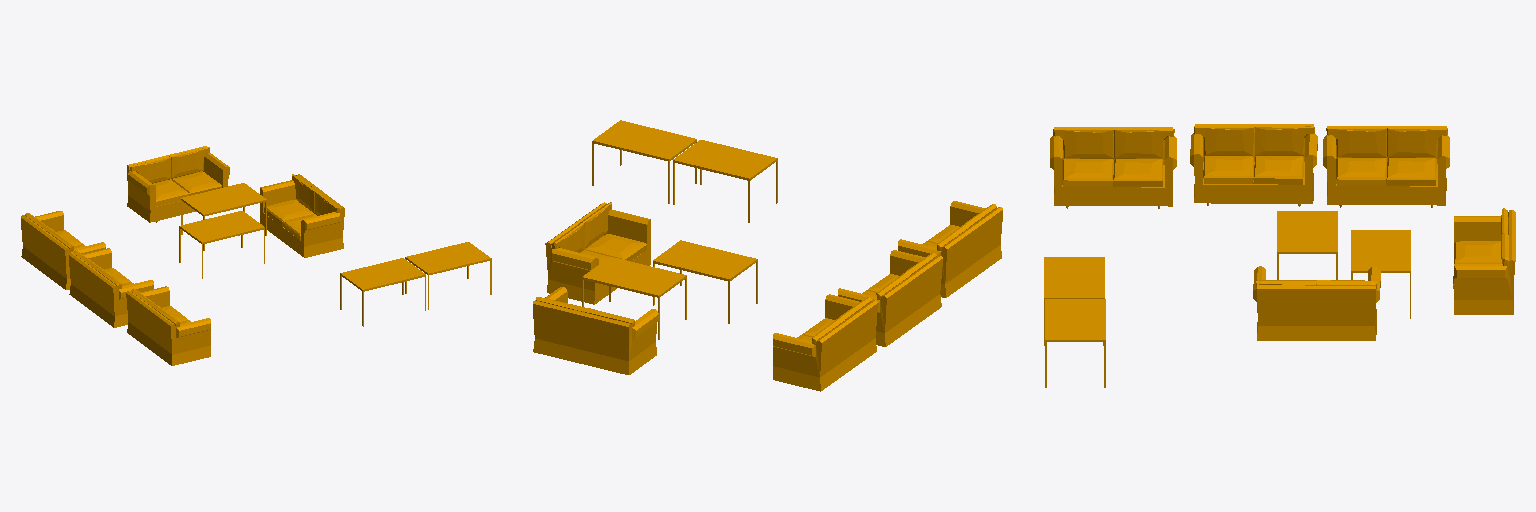
The robot description file, URDF, robot "cs_common_room":
<?xml version="1.0"?>
<robot name="cs_common_room">
  <link name="base_link">
    <visual>
      <origin rpy="0 0 0" xyz="0 0 0"/>
      <geometry>
        <mesh filename="package://strands_morse/bham/meshes/cs_common_room.dae"/>
      </geometry>
    </visual>
  </link>
  <link name="base_footprint"/>
  <joint name="base_footprint_joint" type="fixed">
    <origin rpy="0 0 0" xyz="0 0 0.0"/>
    <child link="base_link"/>
    <parent link="base_footprint"/>
  </joint>
</robot>

--- Facts derived from the render (not from the file) ---
3 views of the same robot in one strip: view 1: azimuth 30°, elevation 25°; view 2: azimuth 150°, elevation 25°; view 3: azimuth 270°, elevation 25° (orthographic).
Model cs_common_room with 2 links and 1 joints (1 fixed), rooted at base_footprint, posed all joints at 0.
Visible links, largest first — view 1: base_link; view 2: base_link; view 3: base_link.
Link boxes in pixels (x1,y1,x2,y2): base_link: (21, 146, 491, 365); base_link: (533, 120, 1002, 391); base_link: (1044, 124, 1515, 387).
Bounding box of the posed robot: 6.87 × 6.65 × 0.951 m (x, y, z).
1 mesh visuals loaded from 1 distinct referenced files (1 Collada DAE).